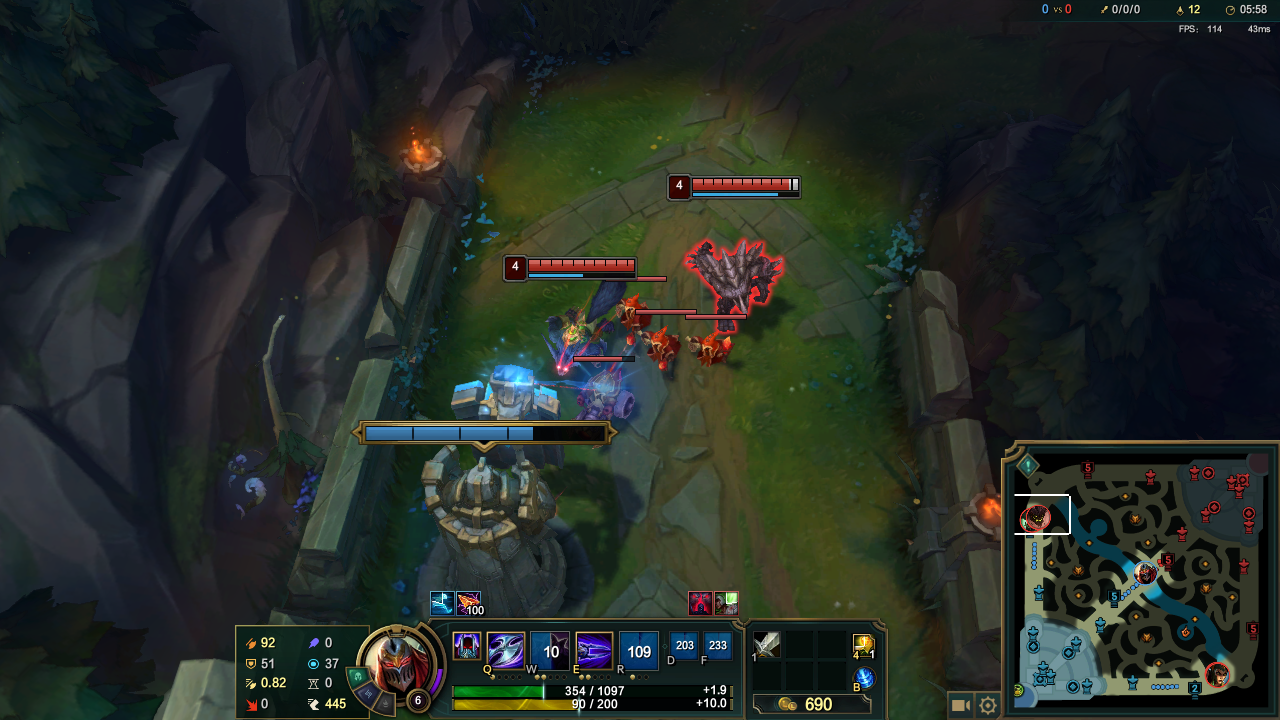DFYX: (525, 259, 633, 278), (690, 178, 800, 195)
